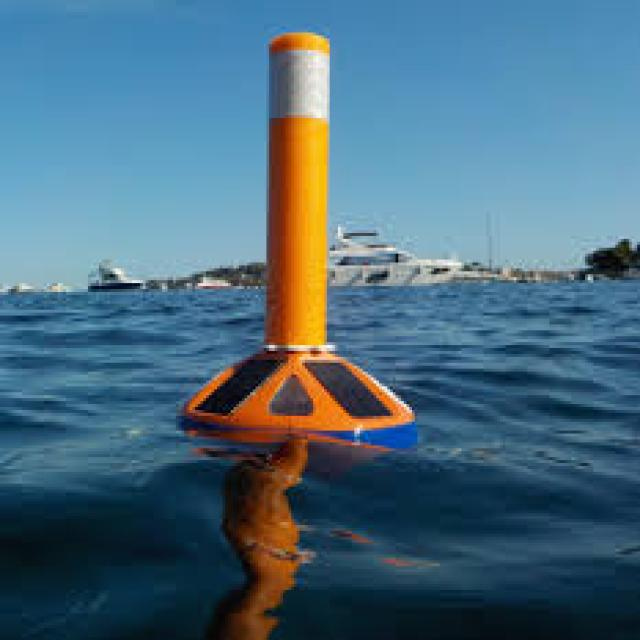marque: (184, 8, 422, 462)
